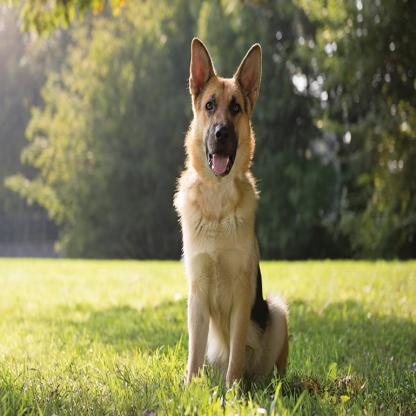german shepherd: (178, 37, 288, 392)
